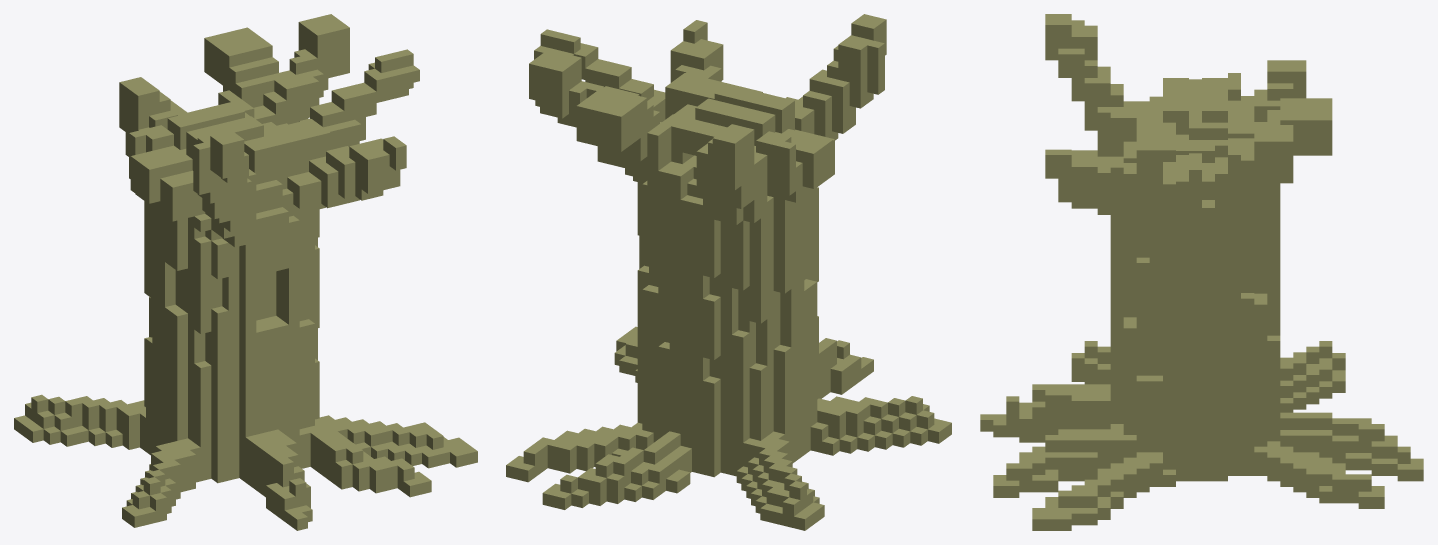
File: turi-1.obj
The picture shows the model from 3 angles, left to right: view 1: azimuth 30°, elevation 25°; view 2: azimuth 150°, elevation 25°; view 3: azimuth 270°, elevation 25°; orthographic projection. The views are drawn at different scales.
Bounding box in the file's own units: 31 × 33 × 34.
